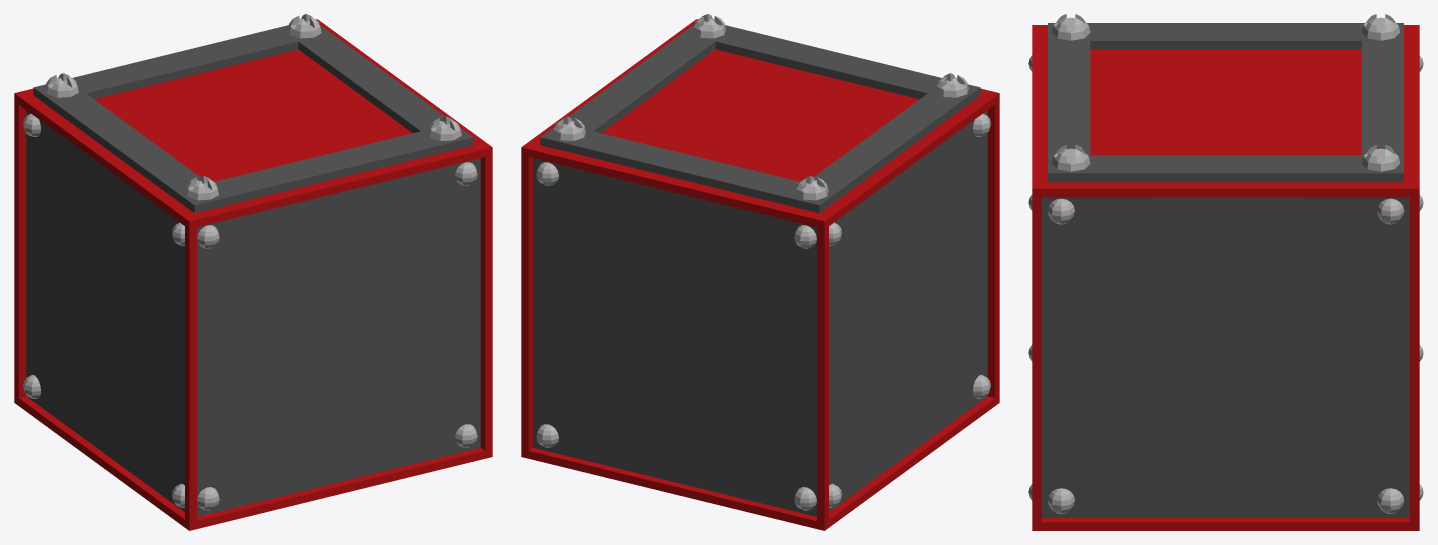
File: machine_tile1.fbx
The picture shows the model from 3 angles, left to right: view 1: azimuth 30°, elevation 25°; view 2: azimuth 150°, elevation 25°; view 3: azimuth 270°, elevation 25°; orthographic projection. The views are drawn at different scales.
Parts seen in each view (by area): view 1: Mesh; view 2: Mesh; view 3: Mesh.
Part boxes in pixels (x1,y1,x2,y2): Mesh: [14, 14, 492, 530]; Mesh: [521, 14, 999, 530]; Mesh: [1028, 14, 1423, 530].
Bounding box in the file's own units: 1.02 × 1.05 × 1.02.
